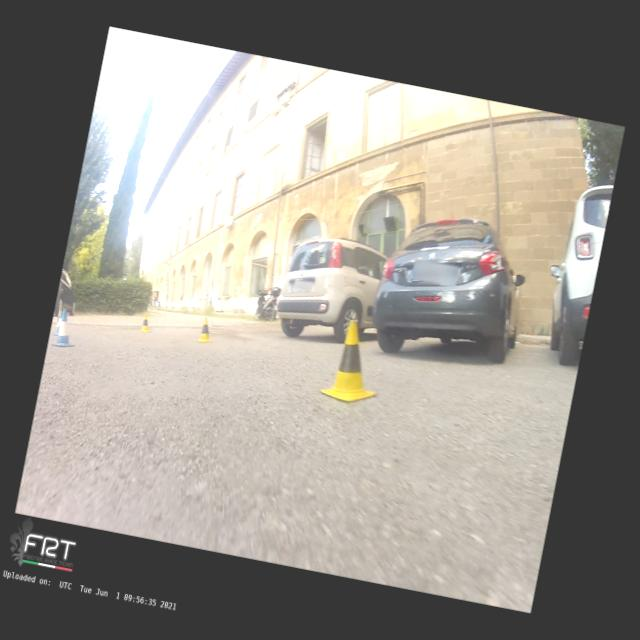blue_cone: (51, 308, 81, 349), (53, 309, 64, 336)
yellow_cone: (318, 316, 389, 408), (196, 316, 218, 344), (138, 313, 154, 334)
